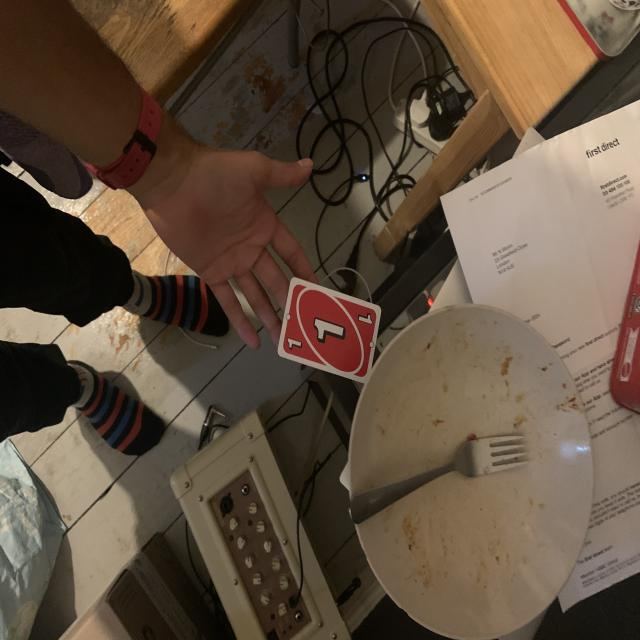lred-1: (354, 307, 376, 329)
